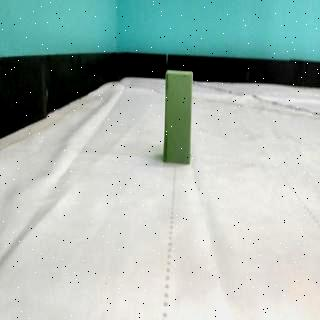greenbox: (162, 70, 194, 164)
